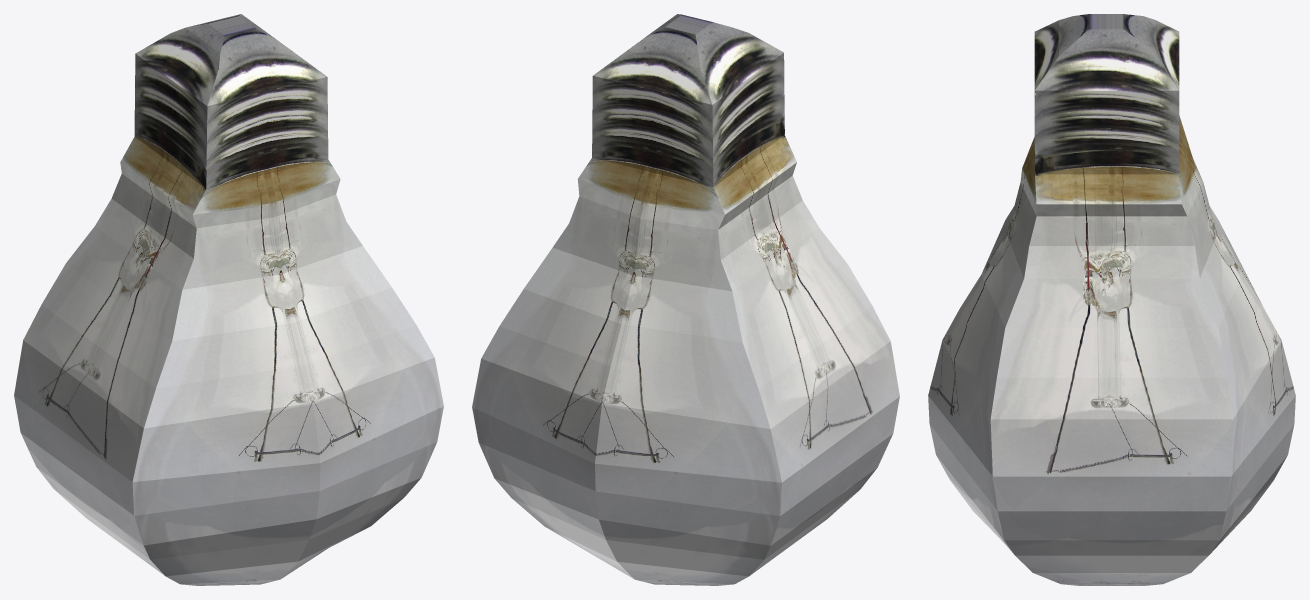
Rendered from bulb.obj.
The picture shows the model from 3 angles, left to right: view 1: azimuth 30°, elevation 25°; view 2: azimuth 150°, elevation 25°; view 3: azimuth 270°, elevation 25°; orthographic projection.
Visible parts, largest first — view 1: ps1_lightBulb.001; view 2: ps1_lightBulb.001; view 3: ps1_lightBulb.001.
Part boxes in pixels (x1,y1,x2,y2): ps1_lightBulb.001: [14, 14, 443, 585]; ps1_lightBulb.001: [472, 14, 899, 585]; ps1_lightBulb.001: [928, 14, 1295, 585].
Bounding box in the file's own units: 0.1758 × 0.2946 × 0.1789.
Materials: 1 (1 with a texture image).
